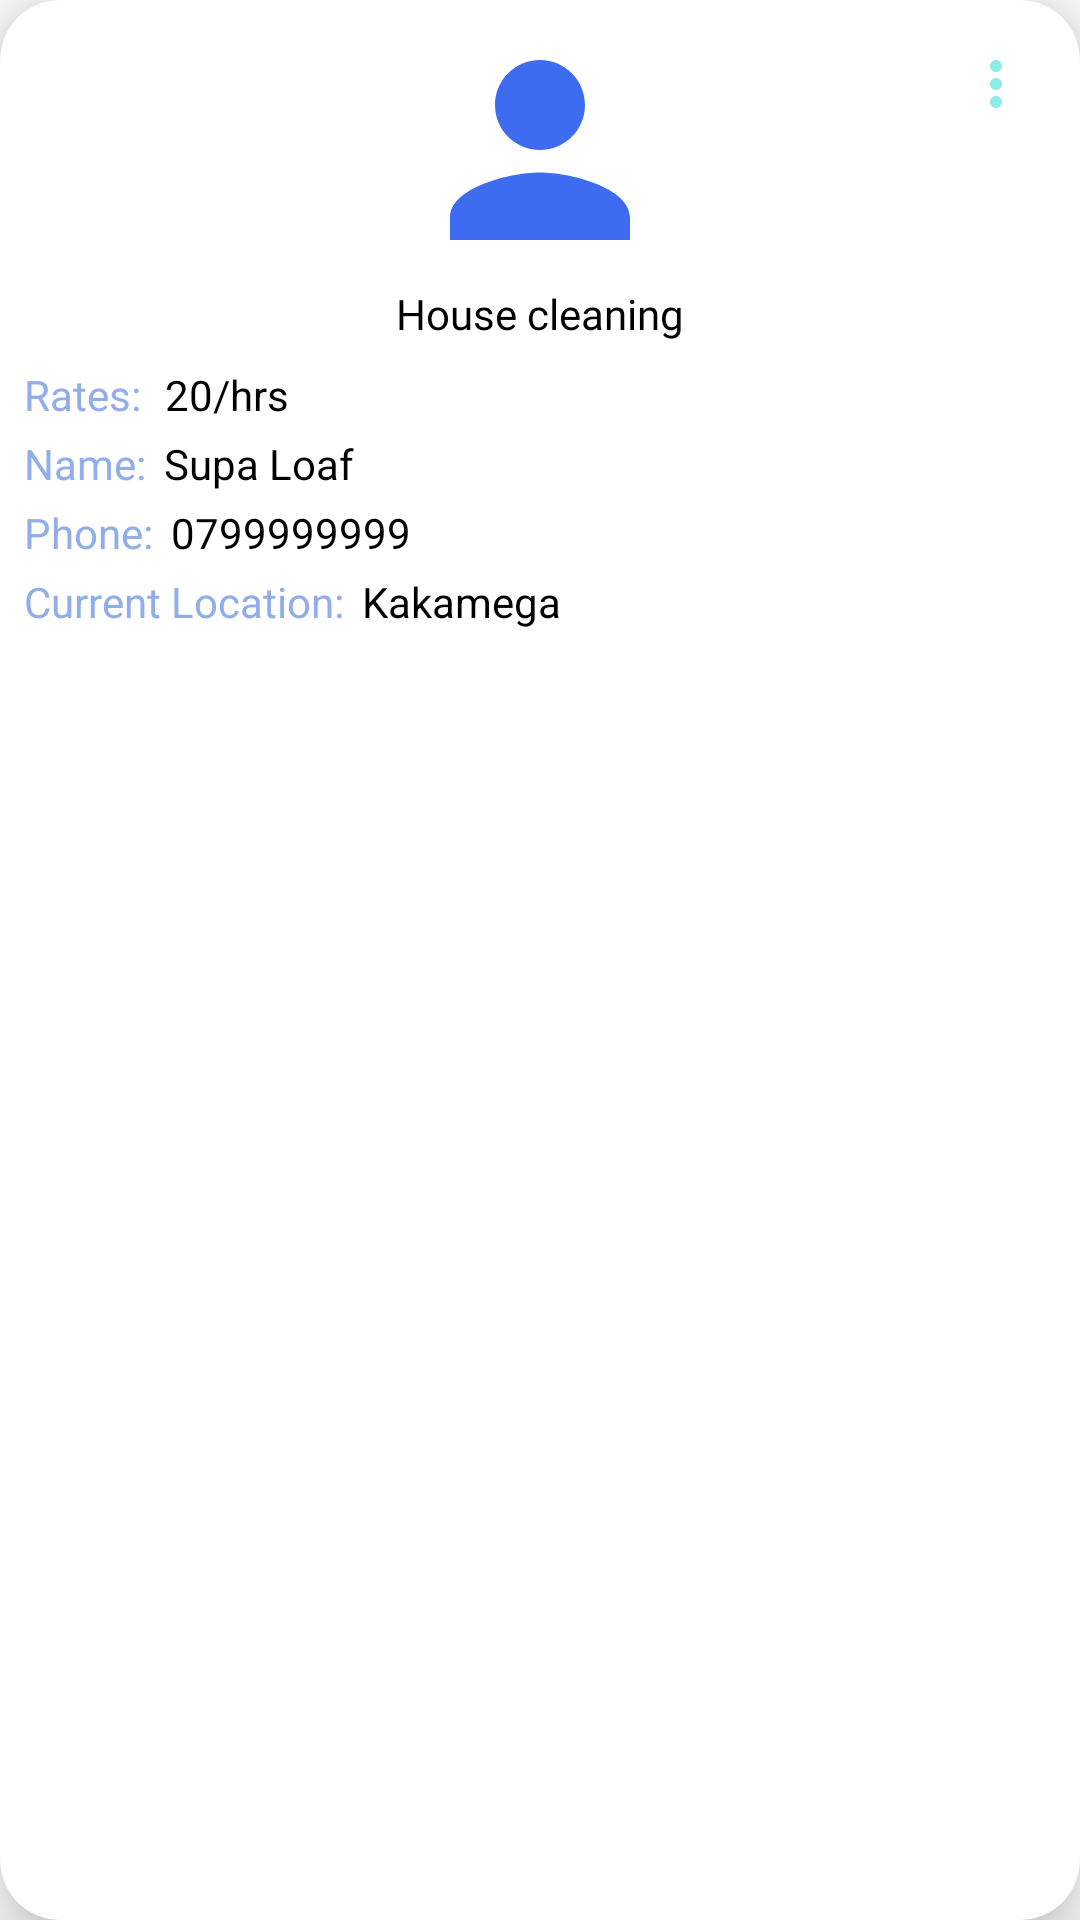

Icon click points for this 1080x1920 phone screenshot, format point (x, y):
more: point (996, 84)
person: point (540, 150)
